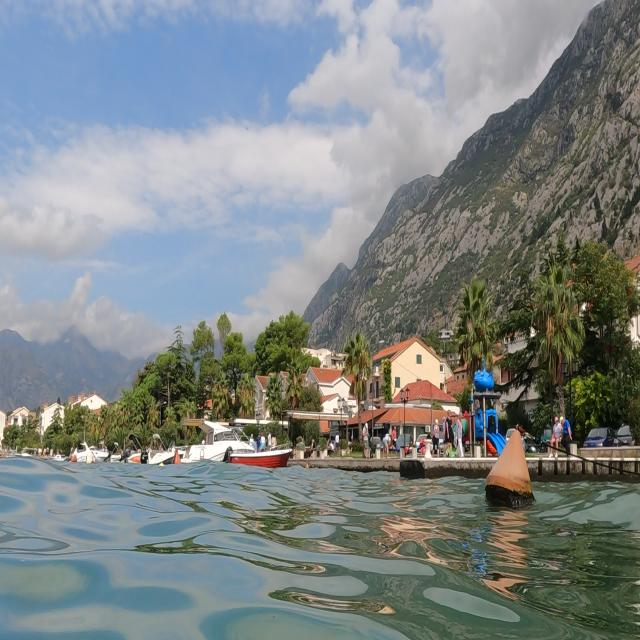boat: (178, 403, 260, 477), (221, 408, 297, 478), (126, 426, 183, 474), (68, 439, 116, 471)
buoy: (482, 426, 537, 513)
